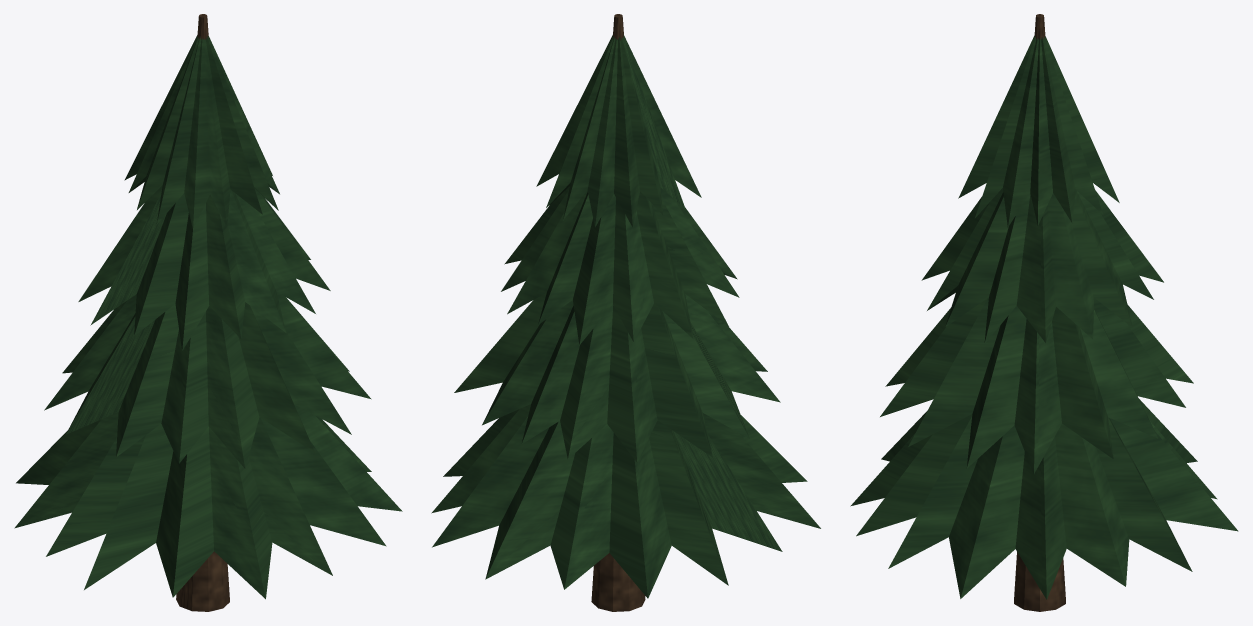
Rendered from PineTree.gltf.
3 views of the same model, side by side, from view 1: azimuth 30°, elevation 25°; view 2: azimuth 150°, elevation 25°; view 3: azimuth 270°, elevation 25° (orthographic).
Parts seen in each view (by area): view 1: PineTree; view 2: PineTree; view 3: PineTree.
Part boxes in pixels (x1,y1,x2,y2): PineTree: [14, 14, 402, 611]; PineTree: [431, 14, 820, 611]; PineTree: [850, 14, 1238, 611].
Size of the model in its own units: 4.53 by 7.6 by 4.58.
2 materials, 2 textured.
